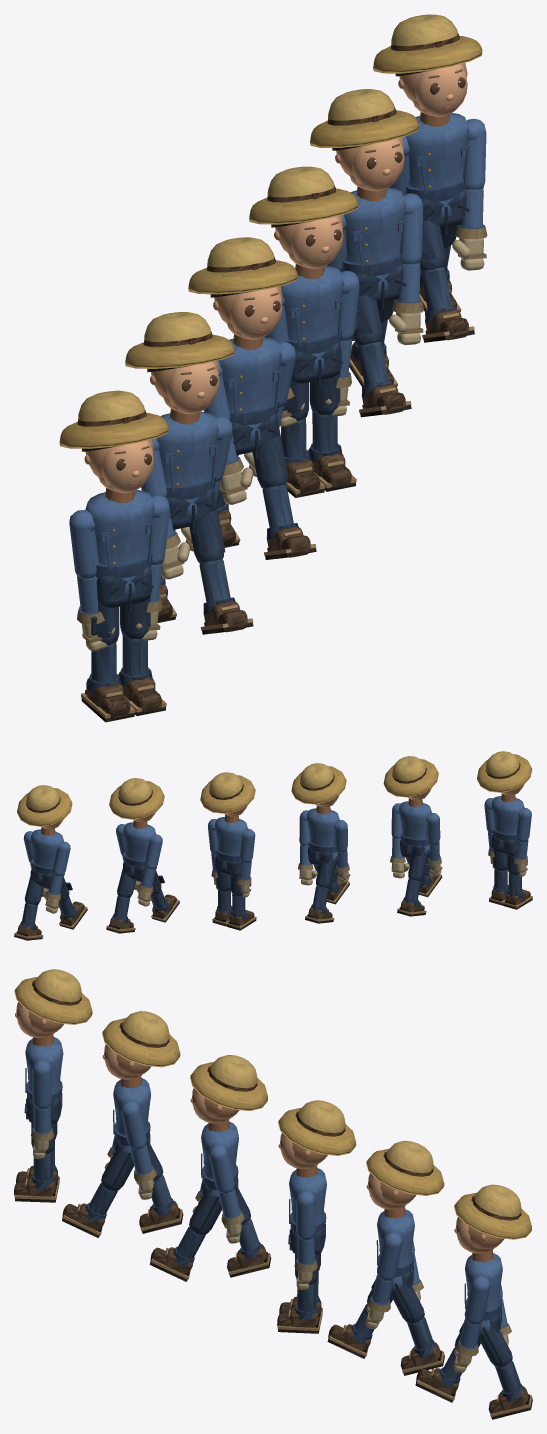
Rendered from audit-hf-player-farmhand-walk-tq.glb.
3 renders of one model, top to bottom at view 1: azimuth 30°, elevation 25°; view 2: azimuth 150°, elevation 25°; view 3: azimuth 270°, elevation 25°, orthographic. The views are drawn at different scales.
Parts seen in each view (by area): view 1: denimJacketTorso (×6), strawHat (×6), head (×6), leftShin (×4), rightShin (×4), trouserHips (×6), leftUpperArm (×4), leftThigh (×4), rightThigh (×3), leftHandMesh (×2), rightHandMesh (×2), rightUpperArm; view 2: strawHat (×6), denimJacketTorso (×6), rightShin (×6), leftShin (×6), rightUpperArm (×6), trouserHips (×6), leftThigh (×4), leftUpperArm (×4), rightThigh (×2), leftHandMesh (×2), rightHandMesh (×2), rightLowerArm (×2); view 3: strawHat (×6), denimJacketTorso (×6), leftShin (×6), leftUpperArm (×6), rightShin (×4), head (×6), leftThigh (×4).
Boxes of the visible parts, <box> form: denimJacketTorso (×6): <box>85,112,469,594</box>; strawHat (×6): <box>59,14,482,448</box>; head (×6): <box>82,63,467,492</box>; leftShin (×4): <box>118,411,356,715</box>; rightShin (×4): <box>81,267,474,722</box>; trouserHips (×6): <box>96,190,469,611</box>; leftUpperArm (×4): <box>148,118,486,564</box>; leftThigh (×4): <box>120,371,340,639</box>; rightThigh (×3): <box>91,221,445,645</box>; leftHandMesh (×2): <box>389,226,487,345</box>; rightHandMesh (×2): <box>161,458,253,579</box>; rightUpperArm: <box>69,510,98,578</box>; strawHat (×6): <box>17,751,532,826</box>; denimJacketTorso (×6): <box>30,794,524,881</box>; rightShin (×6): <box>58,873,532,930</box>; leftShin (×6): <box>14,869,508,940</box>; rightUpperArm (×6): <box>52,807,531,876</box>; trouserHips (×6): <box>30,834,517,888</box>; leftThigh (×4): <box>24,850,507,905</box>; leftUpperArm (×4): <box>208,798,494,853</box>; rightThigh (×2): <box>316,849,430,887</box>; leftHandMesh (×2): <box>298,857,409,885</box>; rightHandMesh (×2): <box>44,883,153,913</box>; rightLowerArm (×2): <box>48,867,155,895</box>; strawHat (×6): <box>14,969,531,1239</box>; denimJacketTorso (×6): <box>25,1034,502,1333</box>; leftShin (×6): <box>14,1151,532,1419</box>; leftUpperArm (×6): <box>32,1060,490,1324</box>; rightShin (×4): <box>139,1174,462,1402</box>; head (×6): <box>15,1002,504,1253</box>; leftThigh (×4): <box>101,1151,512,1367</box>.
Size of what is drawn, in the model's own units: 5.94 by 2.44 by 5.16.
